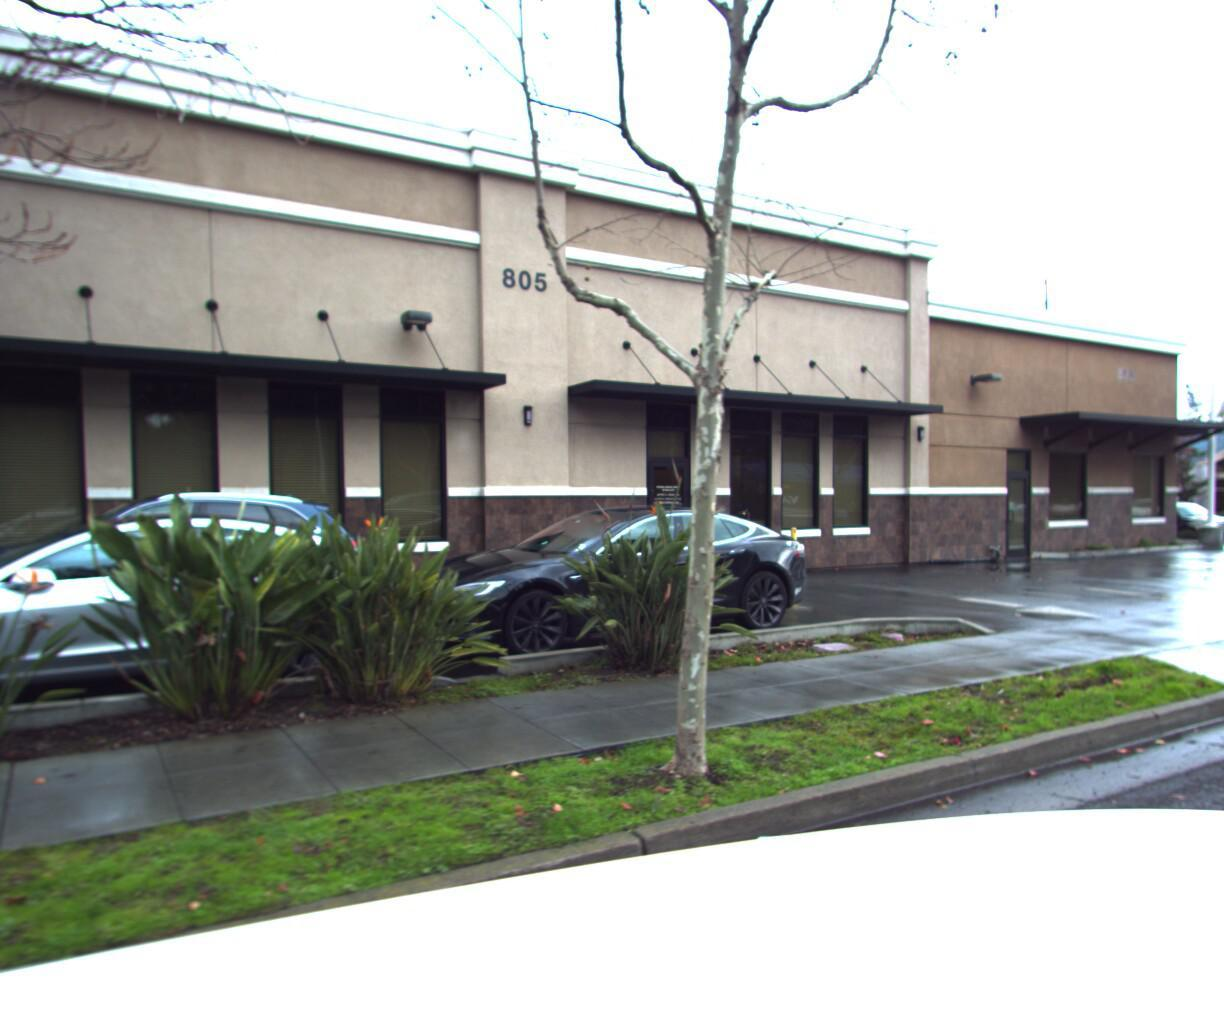car: (0, 503, 427, 749), (371, 505, 847, 678), (0, 490, 395, 674), (1120, 501, 1224, 547)
